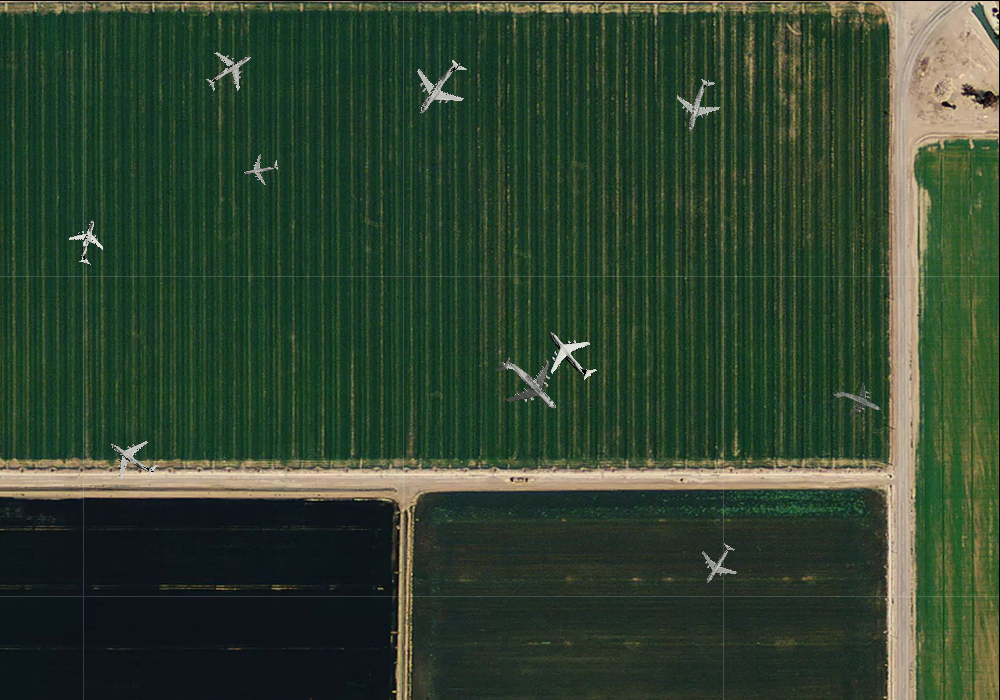plane: (479, 336, 577, 433), (396, 44, 483, 131), (529, 313, 611, 395), (95, 422, 168, 494), (195, 36, 263, 104), (667, 71, 731, 138), (825, 371, 889, 432), (689, 534, 747, 594), (61, 214, 114, 269), (240, 149, 280, 188)
